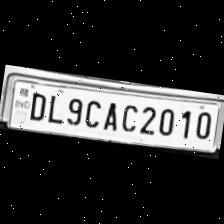0: (154, 104, 178, 137), (190, 107, 214, 140)
1: (174, 105, 195, 139)
2: (136, 102, 157, 136)
9: (61, 92, 85, 126)
A: (100, 98, 122, 132)
C: (80, 94, 104, 128), (117, 100, 140, 134)
D: (24, 88, 48, 123)
L: (44, 90, 64, 124)
